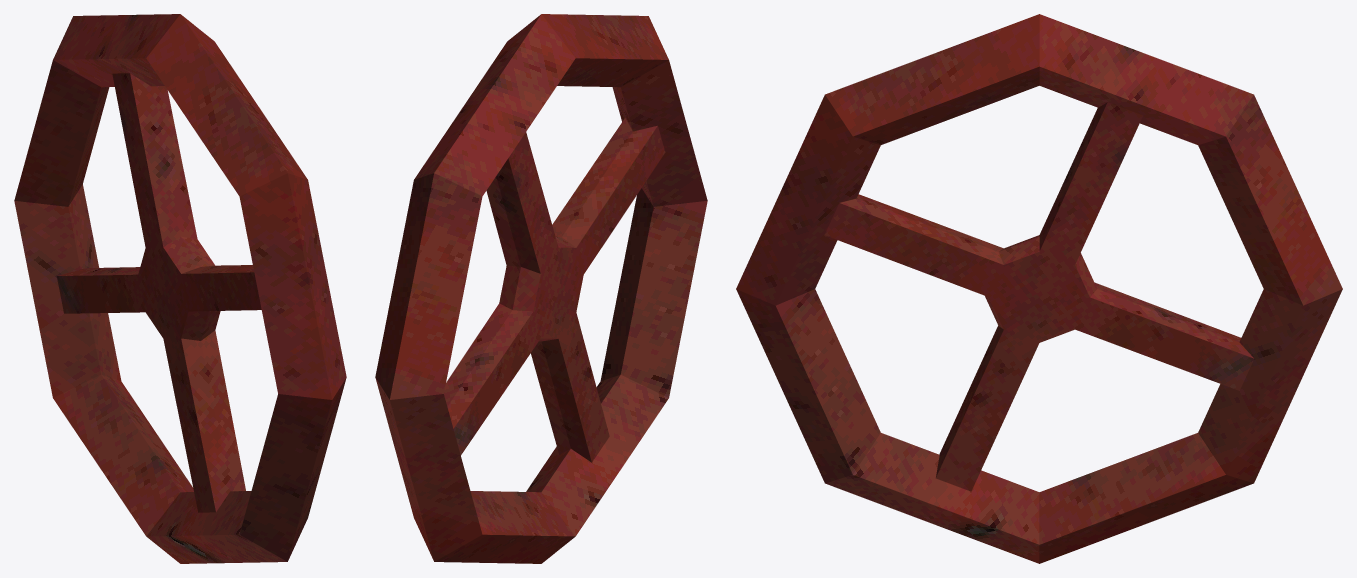
Rendered from valve_red.glb.
The picture shows the model from 3 angles, left to right: view 1: azimuth 30°, elevation 25°; view 2: azimuth 150°, elevation 25°; view 3: azimuth 270°, elevation 25°; orthographic projection.
Visible parts, largest first — view 1: valve_red; view 2: valve_red; view 3: valve_red.
Boxes of the visible parts, left/top/right/bottom form: valve_red: left=14, top=14, right=346, bottom=563; valve_red: left=375, top=14, right=707, bottom=563; valve_red: left=736, top=14, right=1342, bottom=563.
Size of the model in its own units: 0.0544 by 0.4167 by 0.4167.
Materials: 1 (1 with a texture image).
